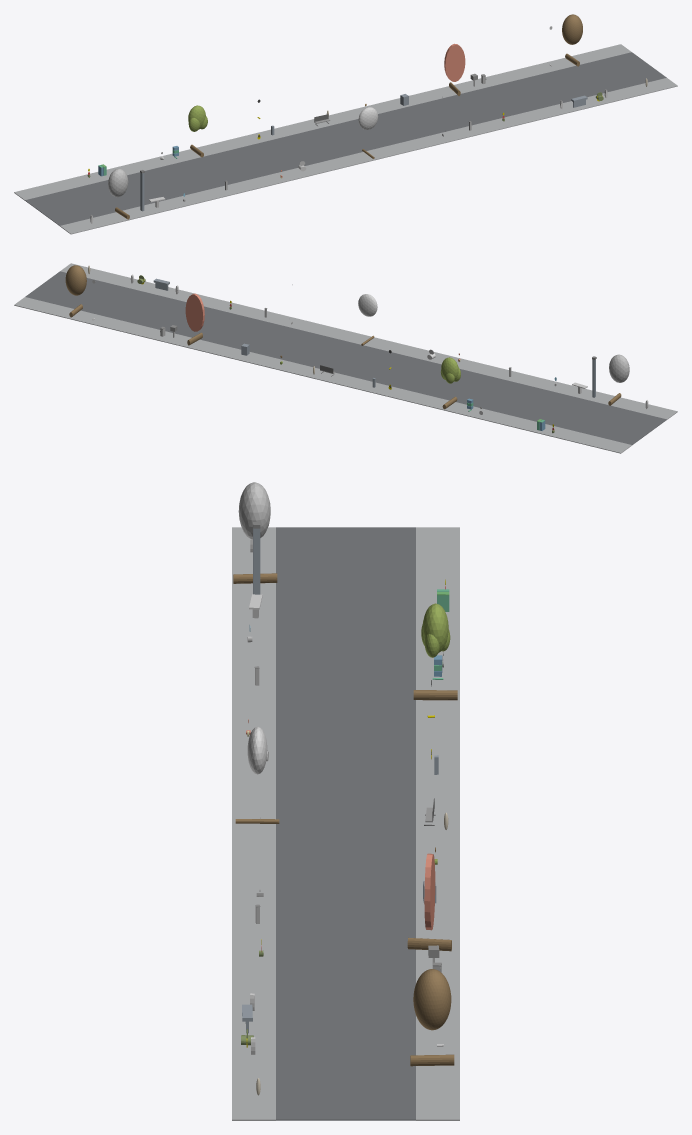
The picture shows the model from 3 angles, top to bottom: view 1: azimuth 30°, elevation 25°; view 2: azimuth 150°, elevation 25°; view 3: azimuth 270°, elevation 25°; orthographic projection. The views are drawn at different scales.
Parts seen in each view (by area): view 1: road_slab, sidewalk_left, sidewalk_right, inst_0015, inst_0016, inst_0012, inst_0013, inst_0014; view 2: road_slab, sidewalk_right, sidewalk_left, inst_0015, inst_0016, inst_0012, inst_0013, inst_0014; view 3: road_slab, sidewalk_left, sidewalk_right, inst_0016, inst_0012, inst_0013, inst_0015, inst_0014.
Part boxes in pixels (x1,y1,x2,y2): road_slab: [25, 52, 666, 225]; sidewalk_left: [60, 78, 677, 234]; sidewalk_right: [14, 44, 631, 200]; inst_0015: [444, 43, 465, 95]; inst_0016: [562, 14, 582, 66]; inst_0012: [108, 168, 129, 219]; inst_0013: [188, 105, 207, 157]; inst_0014: [358, 107, 378, 158]; road_slab: [25, 271, 666, 445]; sidewalk_right: [14, 297, 631, 453]; sidewalk_left: [60, 263, 677, 419]; inst_0015: [185, 293, 204, 345]; inst_0016: [65, 265, 86, 317]; inst_0012: [608, 354, 629, 405]; inst_0013: [440, 357, 460, 409]; inst_0014: [358, 294, 377, 345]; road_slab: [276, 527, 415, 1120]; sidewalk_left: [232, 527, 275, 1120]; sidewalk_right: [416, 527, 459, 1120]; inst_0016: [410, 969, 454, 1066]; inst_0012: [233, 482, 277, 583]; inst_0013: [413, 603, 457, 700]; inst_0015: [407, 853, 451, 951]; inst_0014: [235, 726, 279, 823].
Size of the model in its own units: 80 by 6.08 by 13.
